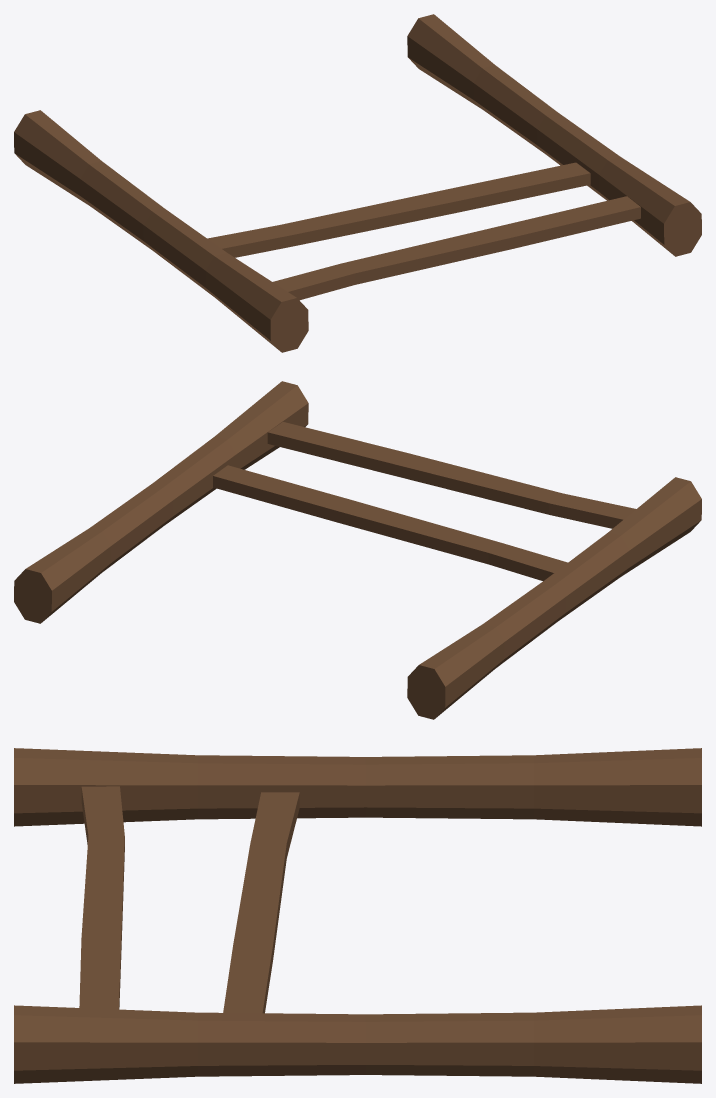
The model's file is Barrier_03.fbx.
3 views of the same model, one above another, from view 1: azimuth 30°, elevation 25°; view 2: azimuth 150°, elevation 25°; view 3: azimuth 270°, elevation 25° (orthographic). The views are drawn at different scales.
Visible parts, largest first — view 1: Barriere_3; view 2: Barriere_3; view 3: Barriere_3.
Boxes of the visible parts, <box> form: Barriere_3: <box>14,14,701,352</box>; Barriere_3: <box>14,381,701,719</box>; Barriere_3: <box>14,748,701,1083</box>.
Bounding box in the file's own units: 97.16 × 11.02 × 100.
